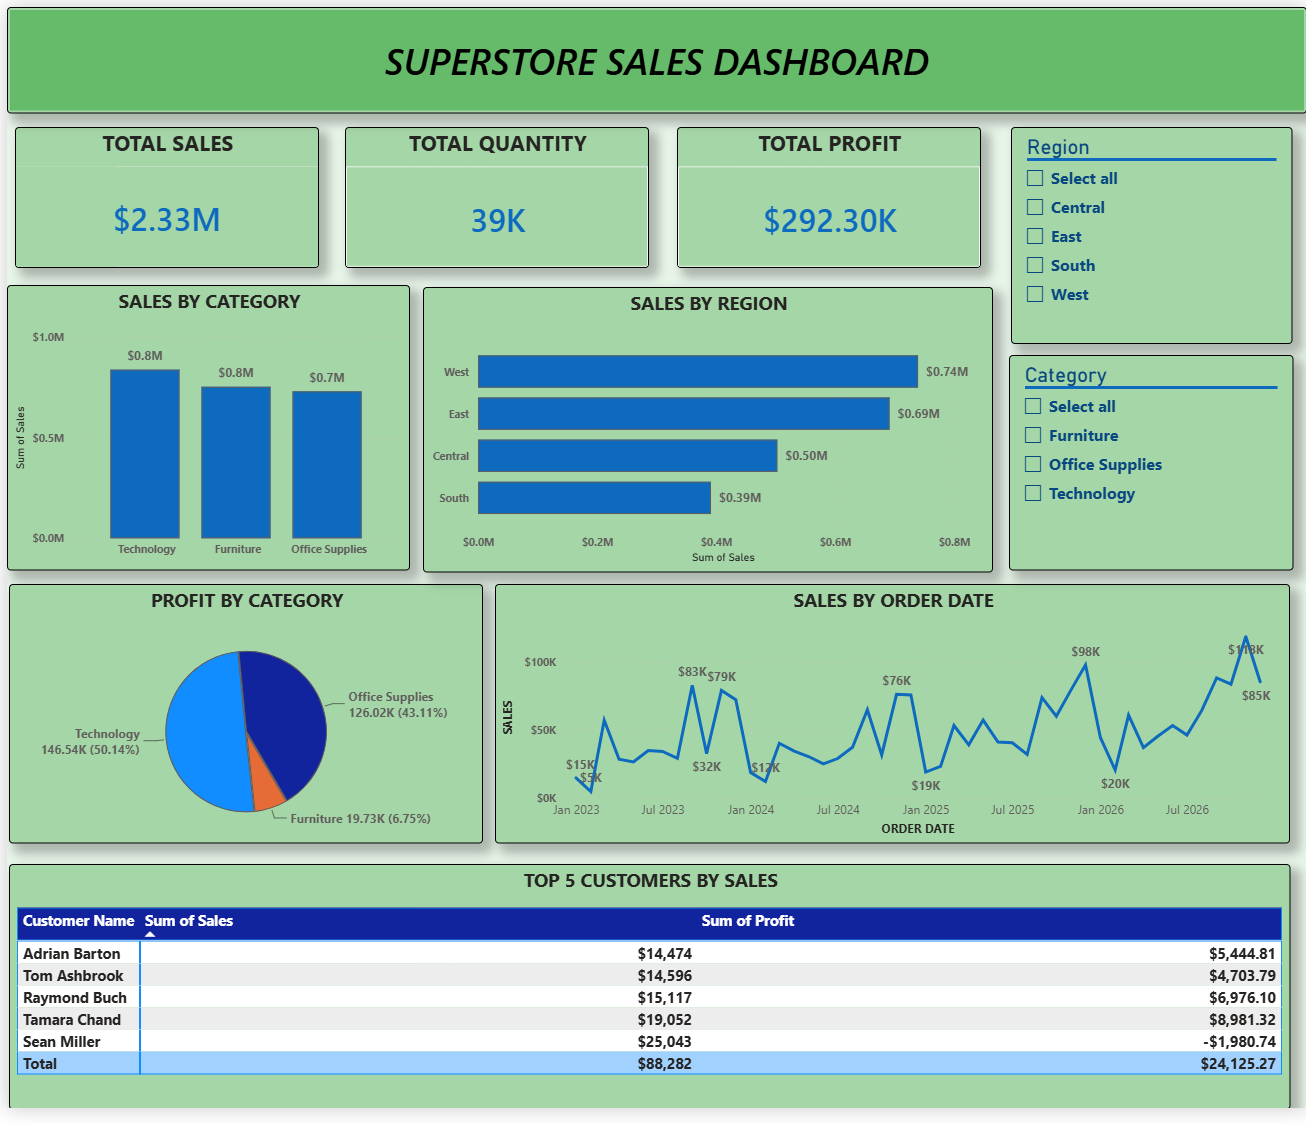

The page's visual inventory and layout, read from the dashboard file:
{"tool":"powerbi","page":{"name":"Page 1","canvas":[1300,1100],"ordinal":0},"visuals":[{"type":"cardVisual","title":"TOTAL SALES ","fields":{"Data":["Sum(Orders.Sales)"]},"box":[8,119.4,304,141],"z":0},{"type":"columnChart","title":"SALES BY CATEGORY","fields":{"Category":["Orders.Category"],"Y":["Sum(Orders.Sales)"]},"box":[0,278.6,402.9,284.3],"z":1000},{"type":"pieChart","title":"PROFIT BY CATEGORY","fields":{"Category":["Orders.Category"],"Y":["Sum(Orders.Profit)"]},"box":[2.9,575.7,474.2,259.7],"z":2000},{"type":"barChart","title":"SALES BY REGION","fields":{"Category":["Orders.Region"],"Y":["Sum(Orders.Sales)"]},"box":[415.7,280,570,284.3],"z":3000},{"type":"lineChart","title":"SALES BY ORDER DATE","fields":{"Category":["Orders.Order Date.Variation.Date Hierarchy.Year","Orders.Order Date.Variation.Date Hierarchy.Month"],"Y":["Sum(Orders.Sales)"]},"box":[488.6,575.7,795.2,259.7],"z":4000},{"type":"pivotTable","title":"TOP 5 CUSTOMERS BY SALES ","fields":{"Rows":["Orders.Customer Name"],"Values":["Sum(Orders.Sales)","Sum(Orders.Profit)"]},"box":[2.9,855.7,1281.4,245.7],"z":5000},{"type":"cardVisual","title":"TOTAL PROFIT","fields":{"Data":["Sum(Orders.Profit)"]},"box":[671,119.4,304,141],"z":6000},{"type":"cardVisual","title":"TOTAL QUANTITY","fields":{"Data":["Sum(Orders.Quantity)"]},"box":[337.1,119.4,304,141],"z":7000},{"type":"shape","title":"SUPERSTORE ","box":[0,0,1300,106.5],"z":8000},{"type":"slicer","fields":{"Values":["Orders.Region"]},"box":[1004.3,120,281.4,217.1],"z":9000},{"type":"slicer","fields":{"Values":["Orders.Category"]},"box":[1001.4,348.6,284.3,214.3],"z":10000}]}

Visuals, with their boxes in screenshot pixels (x1, y1, x2, y2), scaled from the page's 1300x1100 canvas onto the 1306x1124 screenshot:
"TOTAL SALES " cardVisual: Rect(8, 122, 313, 266)
"SALES BY CATEGORY" columnChart: Rect(0, 285, 405, 575)
"PROFIT BY CATEGORY" pieChart: Rect(3, 588, 479, 854)
"SALES BY REGION" barChart: Rect(418, 286, 990, 577)
"SALES BY ORDER DATE" lineChart: Rect(491, 588, 1290, 854)
"TOP 5 CUSTOMERS BY SALES " pivotTable: Rect(3, 874, 1290, 1123)
"TOTAL PROFIT" cardVisual: Rect(674, 122, 980, 266)
"TOTAL QUANTITY" cardVisual: Rect(339, 122, 644, 266)
"SUPERSTORE " shape: Rect(0, 0, 1305, 109)
slicer - Orders.Region: Rect(1009, 123, 1292, 344)
slicer - Orders.Category: Rect(1006, 356, 1292, 575)
